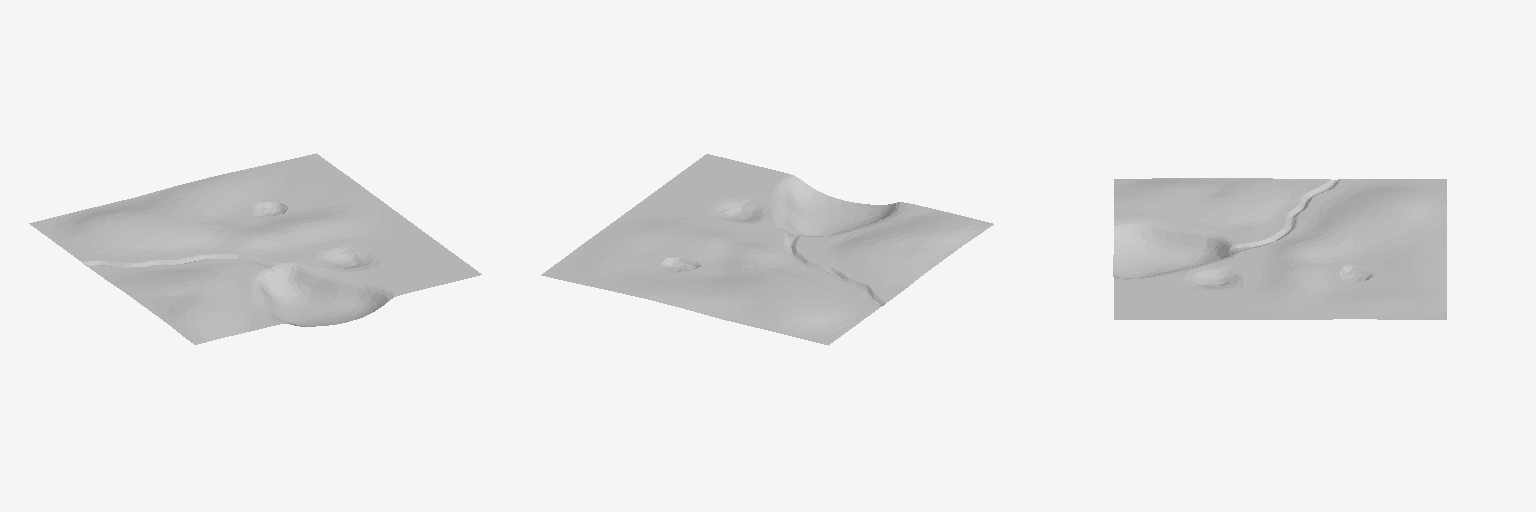
The model's file is World Collider.obj.
3 views of the same model, side by side, from view 1: azimuth 30°, elevation 25°; view 2: azimuth 150°, elevation 25°; view 3: azimuth 270°, elevation 25° (orthographic).
Visible parts, largest first — view 1: World_collider; view 2: World_collider; view 3: World_collider.
Part boxes in pixels (x1,y1,x2,y2): World_collider: (29, 153, 481, 344); World_collider: (541, 154, 993, 345); World_collider: (1113, 178, 1446, 319).
Bounding box in the file's own units: 39.88 × 3.69 × 40.